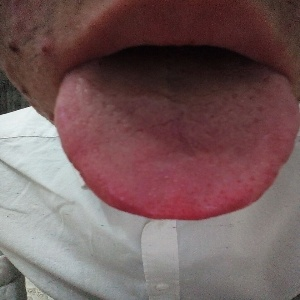st: (54, 72, 300, 213)
